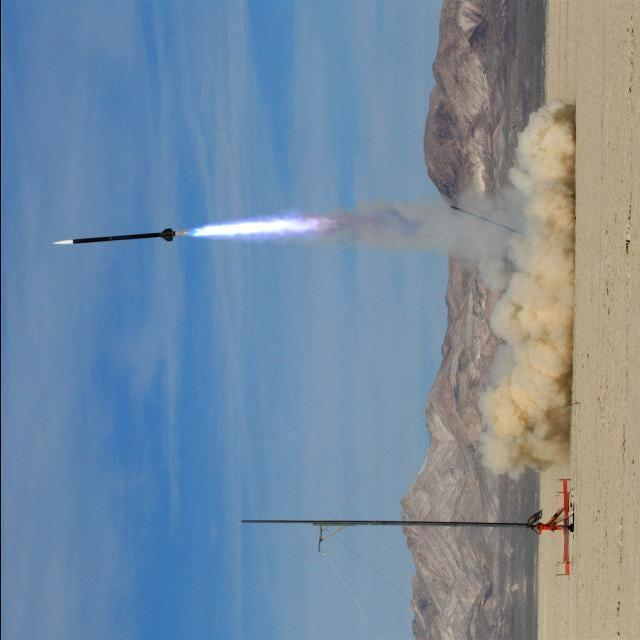missile: (48, 226, 184, 247)
